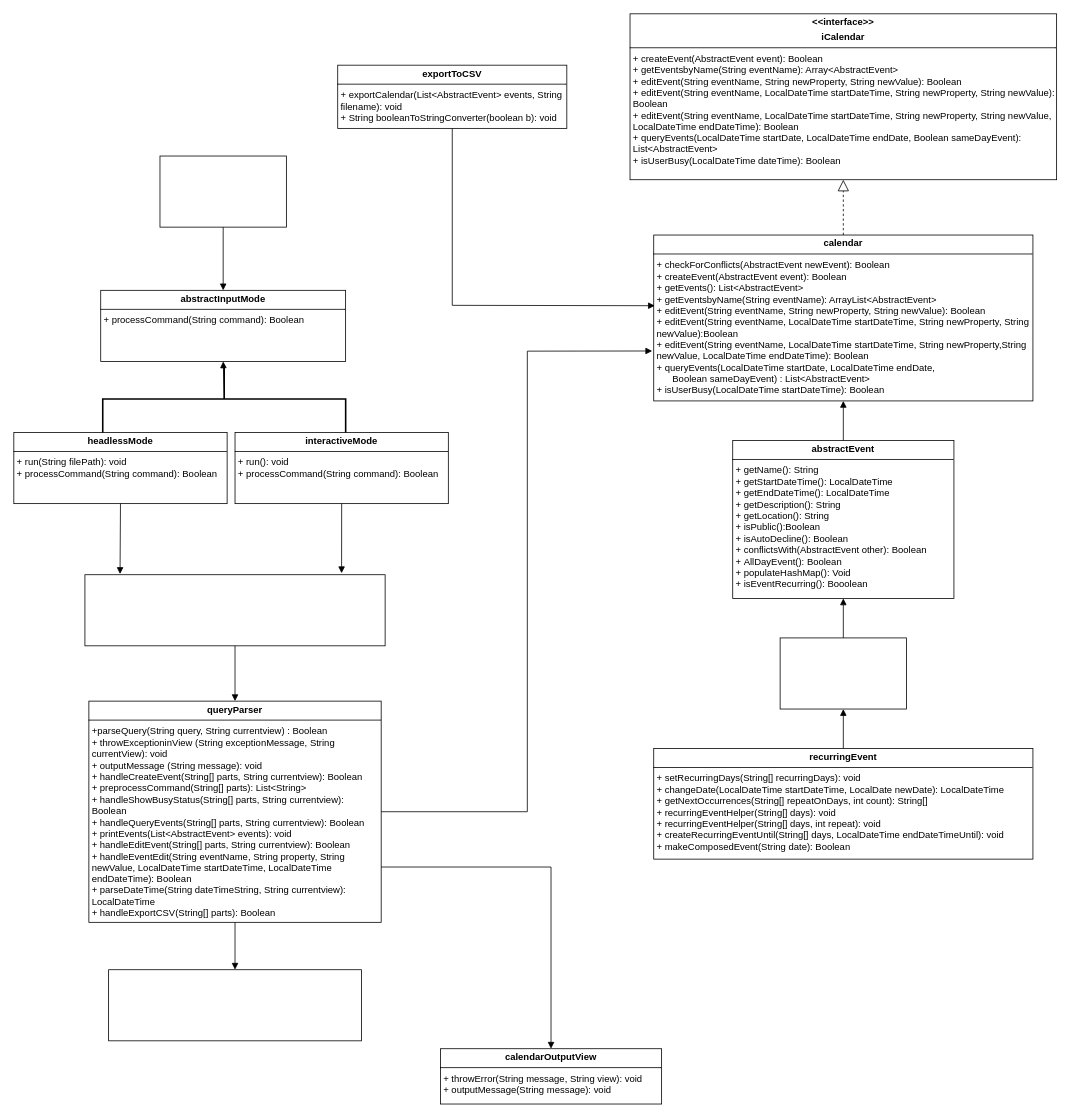
This 1070x1118 diagram has some shape labels left out. The shapes that lost their labels are listed below. From the top down, each one's centre as x and y in pixels, then its label:
At point (222, 191): "calendarApp + main(String[] args): void".
At point (234, 610): "calendarController + processCommand(String command, String currentMode): Boolean".
At point (843, 673): "singleEvent".
At point (234, 1005): "invalidCommandException + InvalidCommandException(String message): Exception".
